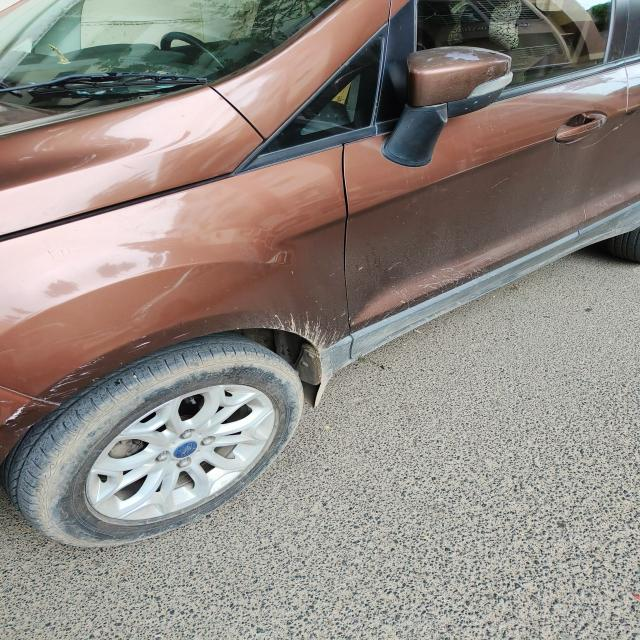scratch: (78, 337, 162, 379), (8, 379, 92, 421), (582, 124, 627, 150), (167, 331, 206, 345), (488, 176, 518, 192)
